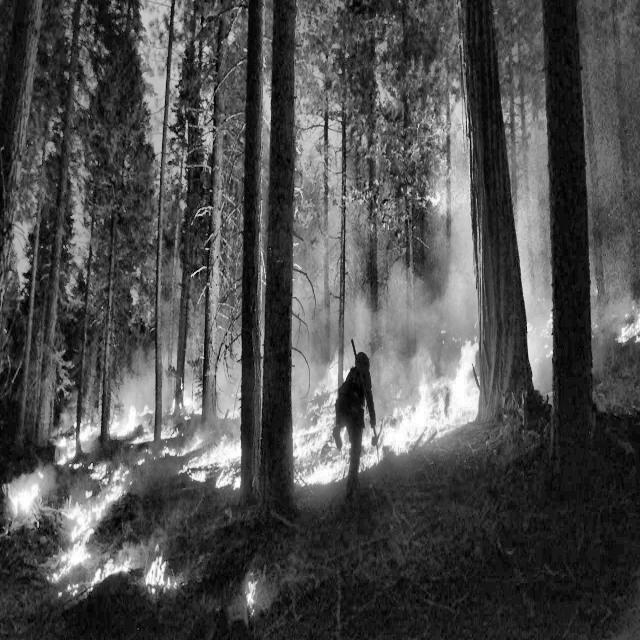fire: (5, 344, 582, 613)
